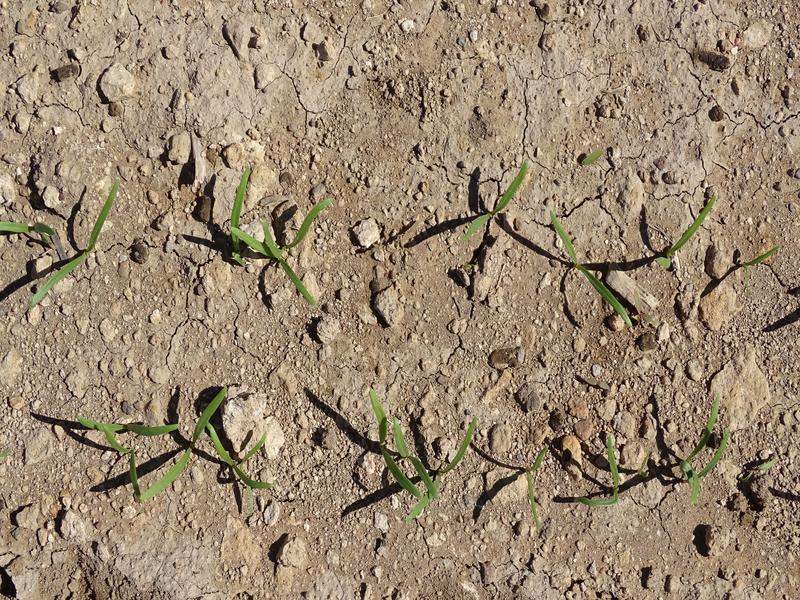Espinaca: (359, 387, 479, 522), (228, 167, 325, 306), (33, 178, 123, 308), (544, 211, 636, 332), (145, 382, 229, 496), (458, 153, 531, 246), (682, 390, 731, 501), (207, 427, 279, 501), (658, 195, 719, 269), (587, 430, 626, 510), (79, 413, 184, 439)
